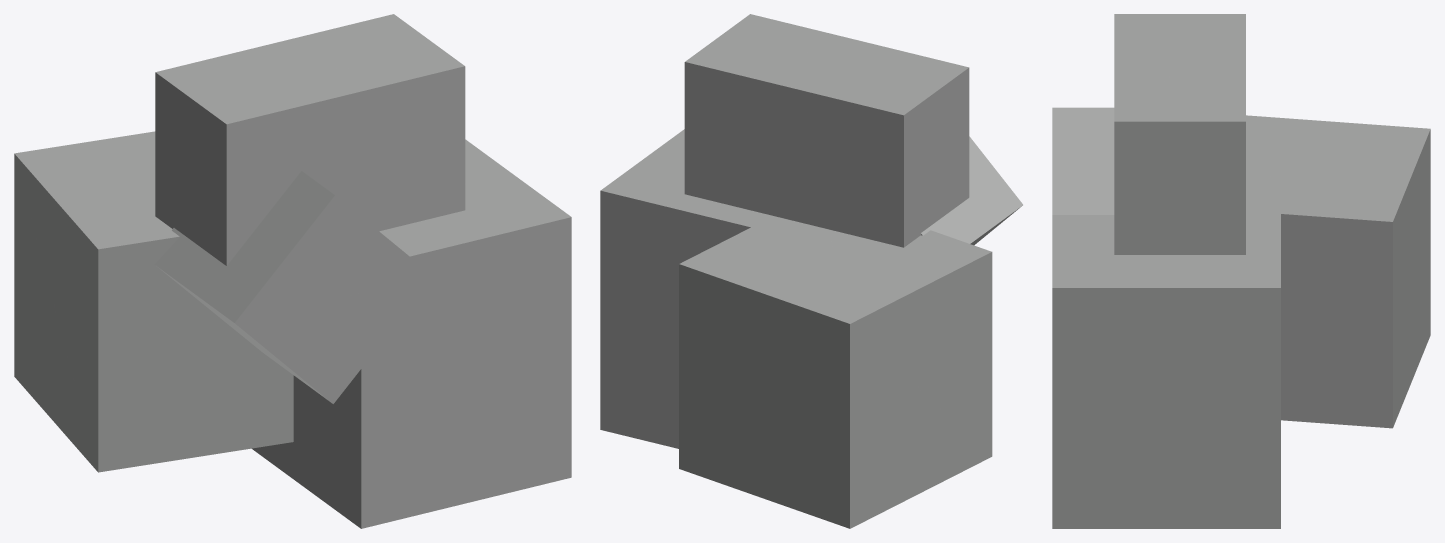
File: Rocks_01.fbx
The picture shows the model from 3 angles, left to right: view 1: azimuth 30°, elevation 25°; view 2: azimuth 150°, elevation 25°; view 3: azimuth 270°, elevation 25°; orthographic projection. The views are drawn at different scales.
Parts seen in each view (by area): view 1: mesh_id75, mesh_id61, mesh_id33, mesh_id21; view 2: mesh_id61, mesh_id33, mesh_id75, mesh_id21; view 3: mesh_id75, mesh_id61, mesh_id33, mesh_id21.
Part boxes in pixels (x1=…): mesh_id75: x1=252, y1=139, x2=571, y2=528; mesh_id61: x1=14, y1=131, x2=293, y2=472; mesh_id33: x1=155, y1=14, x2=465, y2=265; mesh_id21: x1=154, y1=171, x2=409, y2=403; mesh_id61: x1=679, y1=216, x2=992, y2=528; mesh_id33: x1=684, y1=14, x2=969, y2=247; mesh_id75: x1=600, y1=129, x2=808, y2=448; mesh_id21: x1=921, y1=136, x2=1022, y2=245; mesh_id75: x1=1052, y1=196, x2=1280, y2=528; mesh_id61: x1=1246, y1=115, x2=1430, y2=428; mesh_id33: x1=1114, y1=14, x2=1245, y2=254; mesh_id21: x1=1052, y1=107, x2=1114, y2=214.
Bounding box in the file's own units: 537 × 535 × 490.
4 materials, 4 textured.
